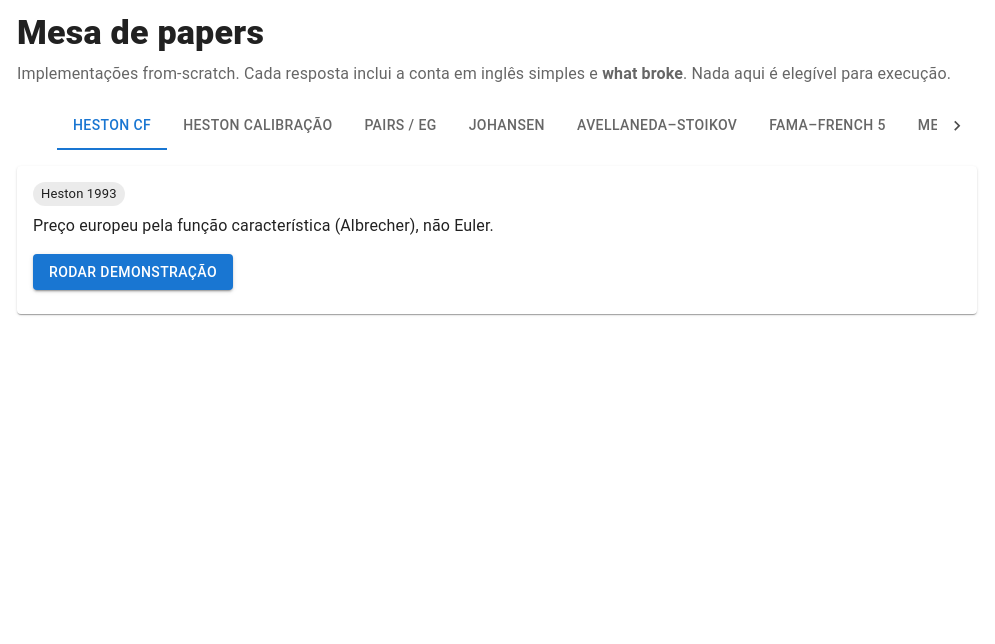
it: DeskLabPage › exposes the round-5 desk tabs and runs calibrate
Expected: the heading "Mesa de papers" is shown, x1=17 y1=12 x2=264 y2=52
Expected: the tab "Johansen" is shown, x1=453 y1=102 x2=561 y2=150
Click the tab "Heston calibração". click: coordinates (258, 126)
box: x1=167 y1=102 x2=348 y2=150
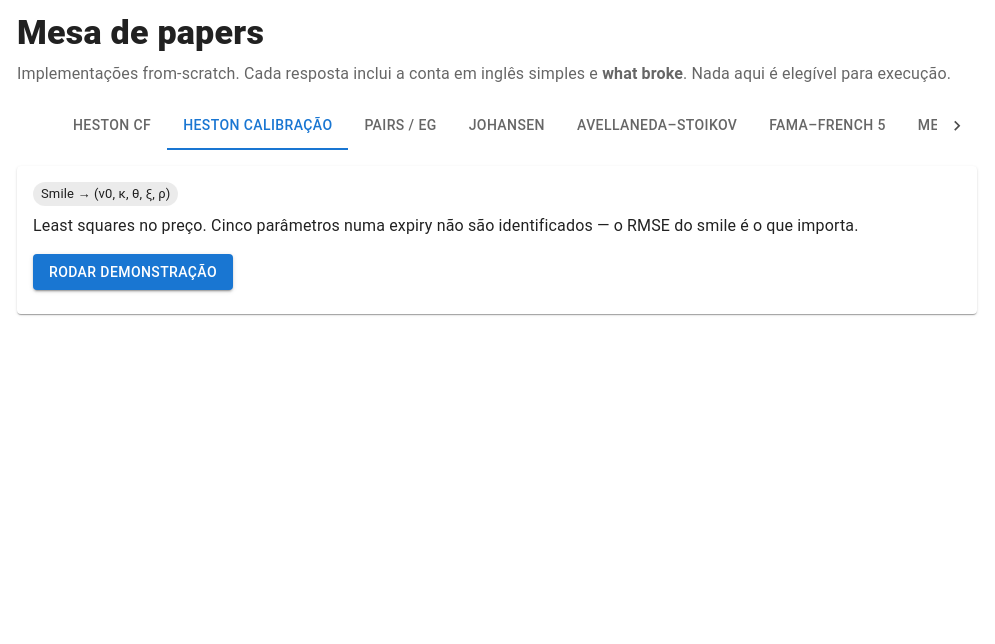
Click the button "Rodar demonstração". click: coordinates (133, 272)
box: x1=33 y1=254 x2=233 y2=290
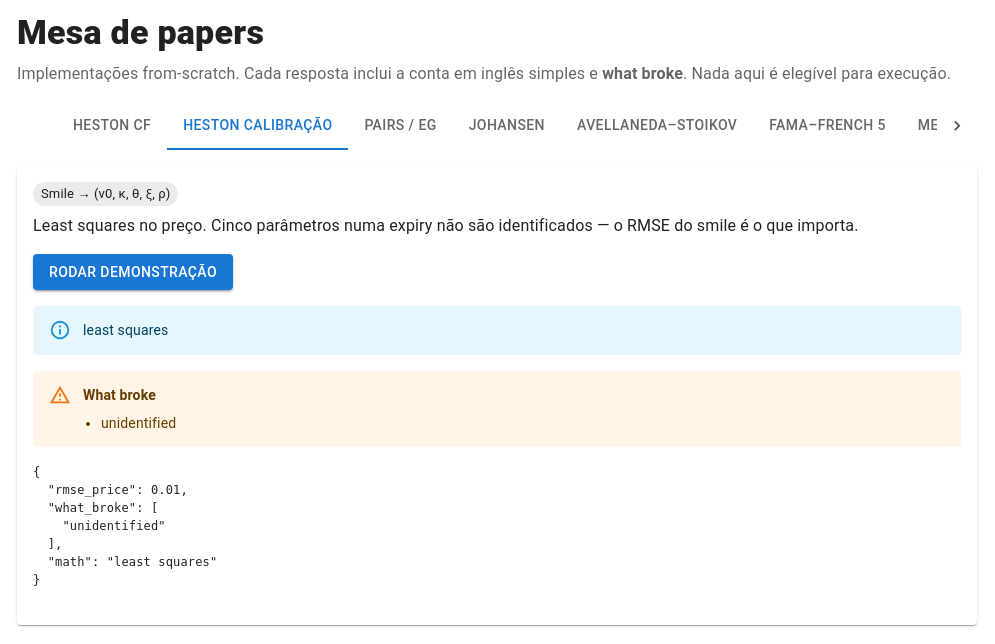
Result: the list item "unidentified" is shown at x1=101 y1=412 x2=176 y2=432
